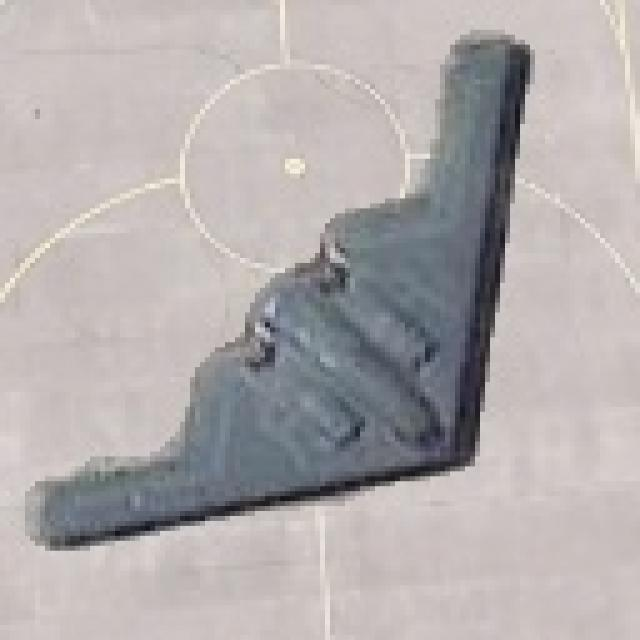B-2_TopDown: (15, 25, 535, 551)
